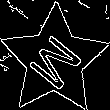M_SE: (22, 26, 87, 94)
